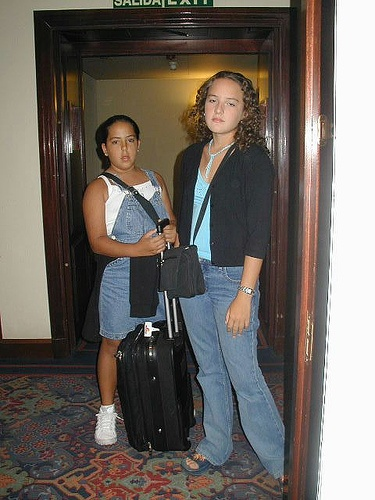head: (195, 65, 250, 139), (94, 116, 143, 171)
person: (168, 53, 286, 479), (80, 110, 177, 452)
